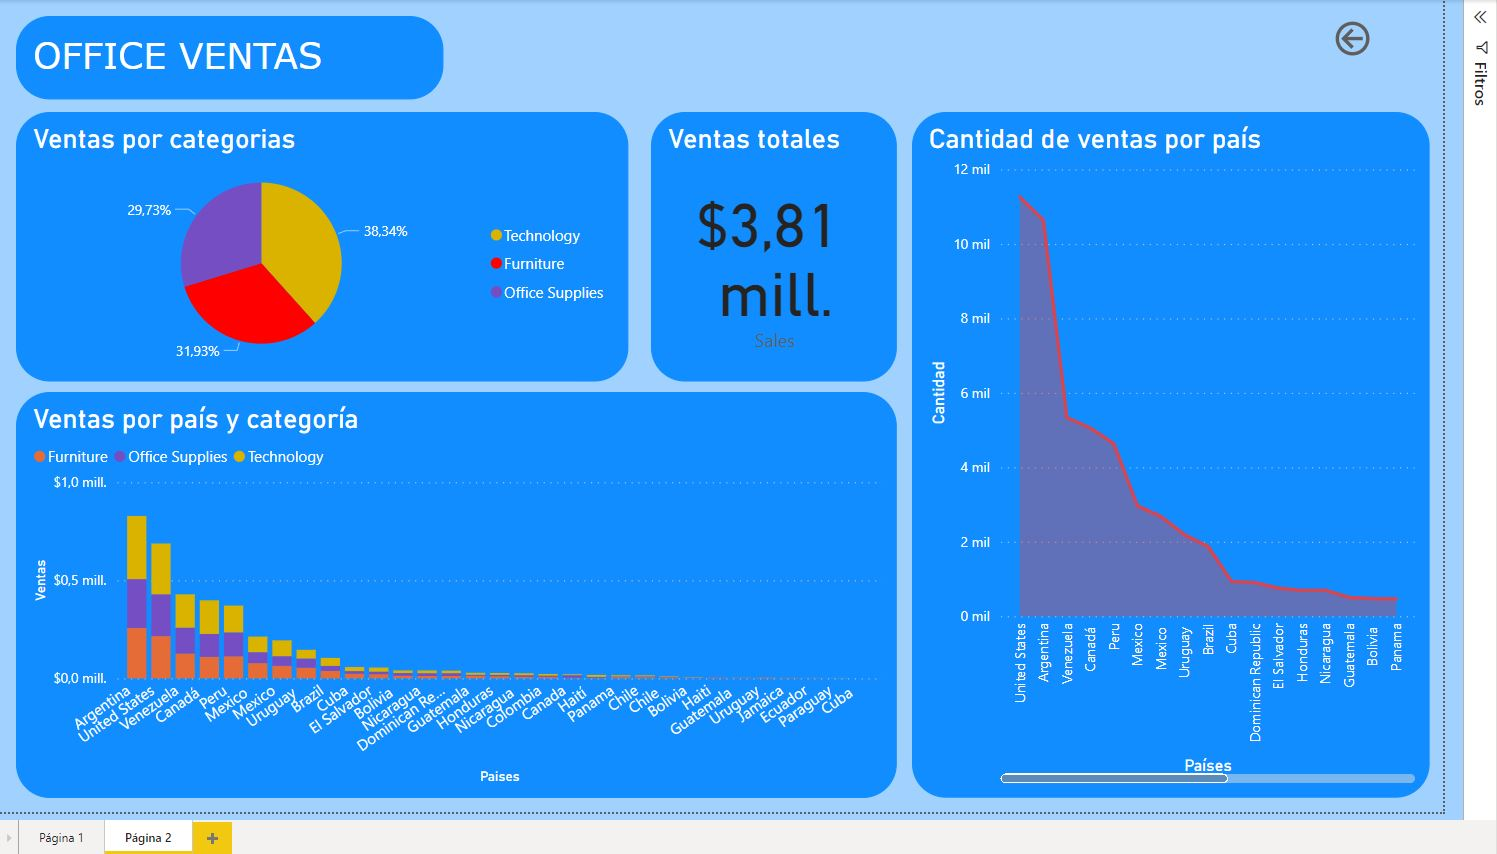

The dashboard page shown, as its layout file describes it:
{"tool":"powerbi","page":{"name":"Página 2","canvas":[1280,720],"ordinal":1},"visuals":[{"type":"pieChart","title":"Ventas por categorias","fields":{"Y":["Sum(Global Superstore.Sales)"],"Category":["TablaProductDetails.Category"]},"box":[15.1,99.3,542.7,238.5],"z":0},{"type":"columnChart","title":"Ventas por país y categoría","fields":{"Y":["Sum(Global Superstore.Sales)"],"Category":["Global Superstore.Country"],"Series":["TablaProductDetails.Category"]},"box":[15.1,347.6,781.2,360],"z":1000},{"type":"card","title":"Ventas totales","fields":{"Values":["Sum(Global Superstore.Sales)"]},"box":[578.1,99.3,218.1,238.5],"z":2000},{"type":"textbox","box":[15.1,14.2,378.6,74.5],"z":3000},{"type":"areaChart","title":"Cantidad de ventas por país","fields":{"Category":["Global Superstore.Country"],"Y":["Sum(Global Superstore.Quantity)"]},"box":[809.6,99.3,459.3,608.3],"z":4000},{"type":"actionButton","box":[1180.2,14.2,58.5,39.9],"z":4001}]}

Visuals, with their boxes in screenshot pixels (x1, y1, x2, y2):
"Ventas por categorias" pieChart: Rect(25, 114, 628, 380)
"Ventas por país y categoría" columnChart: Rect(25, 391, 894, 791)
"Ventas totales" card: Rect(651, 114, 894, 380)
textbox: Rect(25, 20, 446, 103)
"Cantidad de ventas por país" areaChart: Rect(908, 114, 1419, 791)
actionButton: Rect(1321, 20, 1386, 64)
